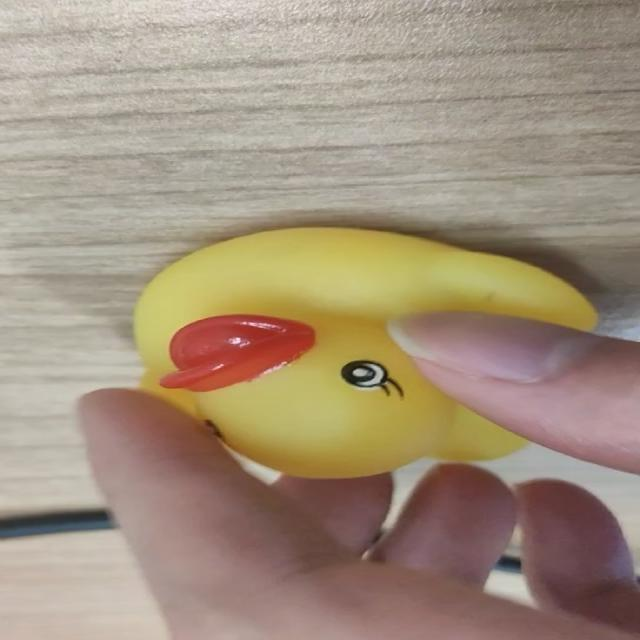rubber-duck: (133, 226, 595, 475)
